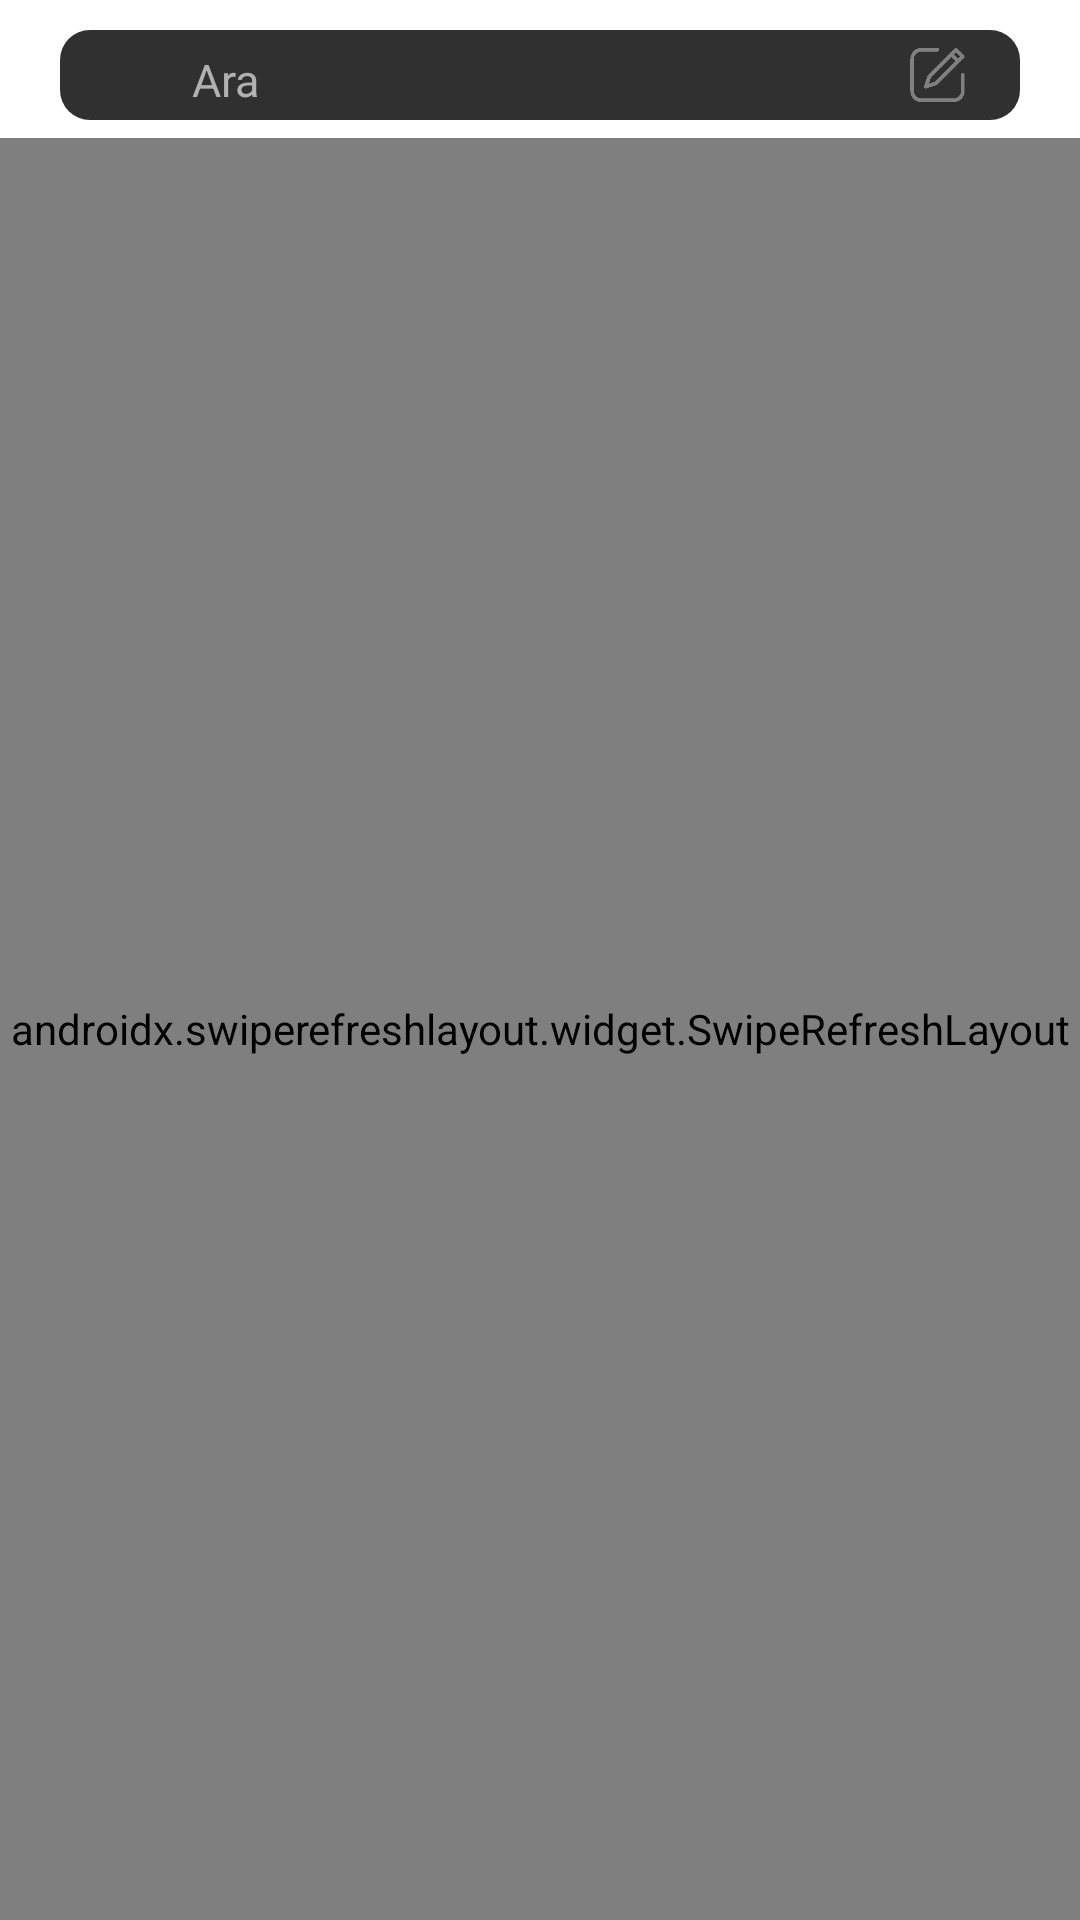

Icons on this 1080 × 1920 Android screen, each with its box as (x1, y1, x2, y2):
postadd: (910, 48, 965, 102)
